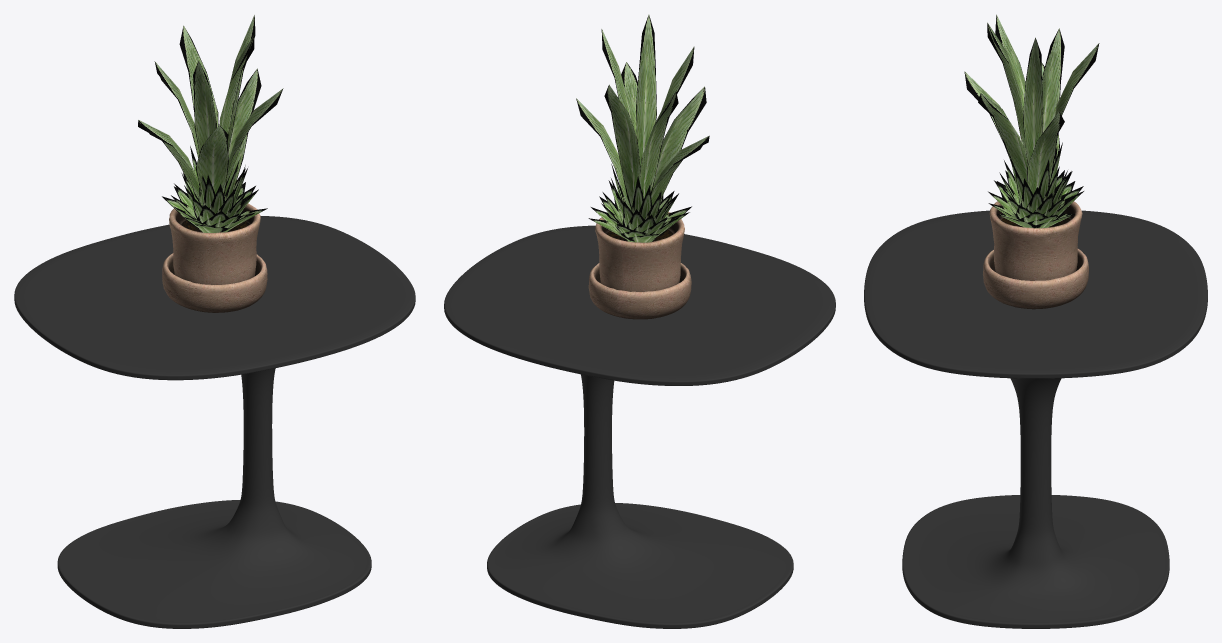
The model's file is plant4.glb.
3 views of the same model, side by side, from view 1: azimuth 30°, elevation 25°; view 2: azimuth 150°, elevation 25°; view 3: azimuth 270°, elevation 25° (orthographic). The views are drawn at different scales.
Parts seen in each view (by area): view 1: side table Awa Outdoor; view 2: side table Awa Outdoor; view 3: side table Awa Outdoor.
Part boxes in pixels (bbox=[...]): side table Awa Outdoor: bbox=[14, 15, 415, 628]; side table Awa Outdoor: bbox=[444, 14, 835, 628]; side table Awa Outdoor: bbox=[864, 14, 1207, 628].
Size of the model in its own units: 1.72 by 2.67 by 1.51.
3 materials, 2 textured.
